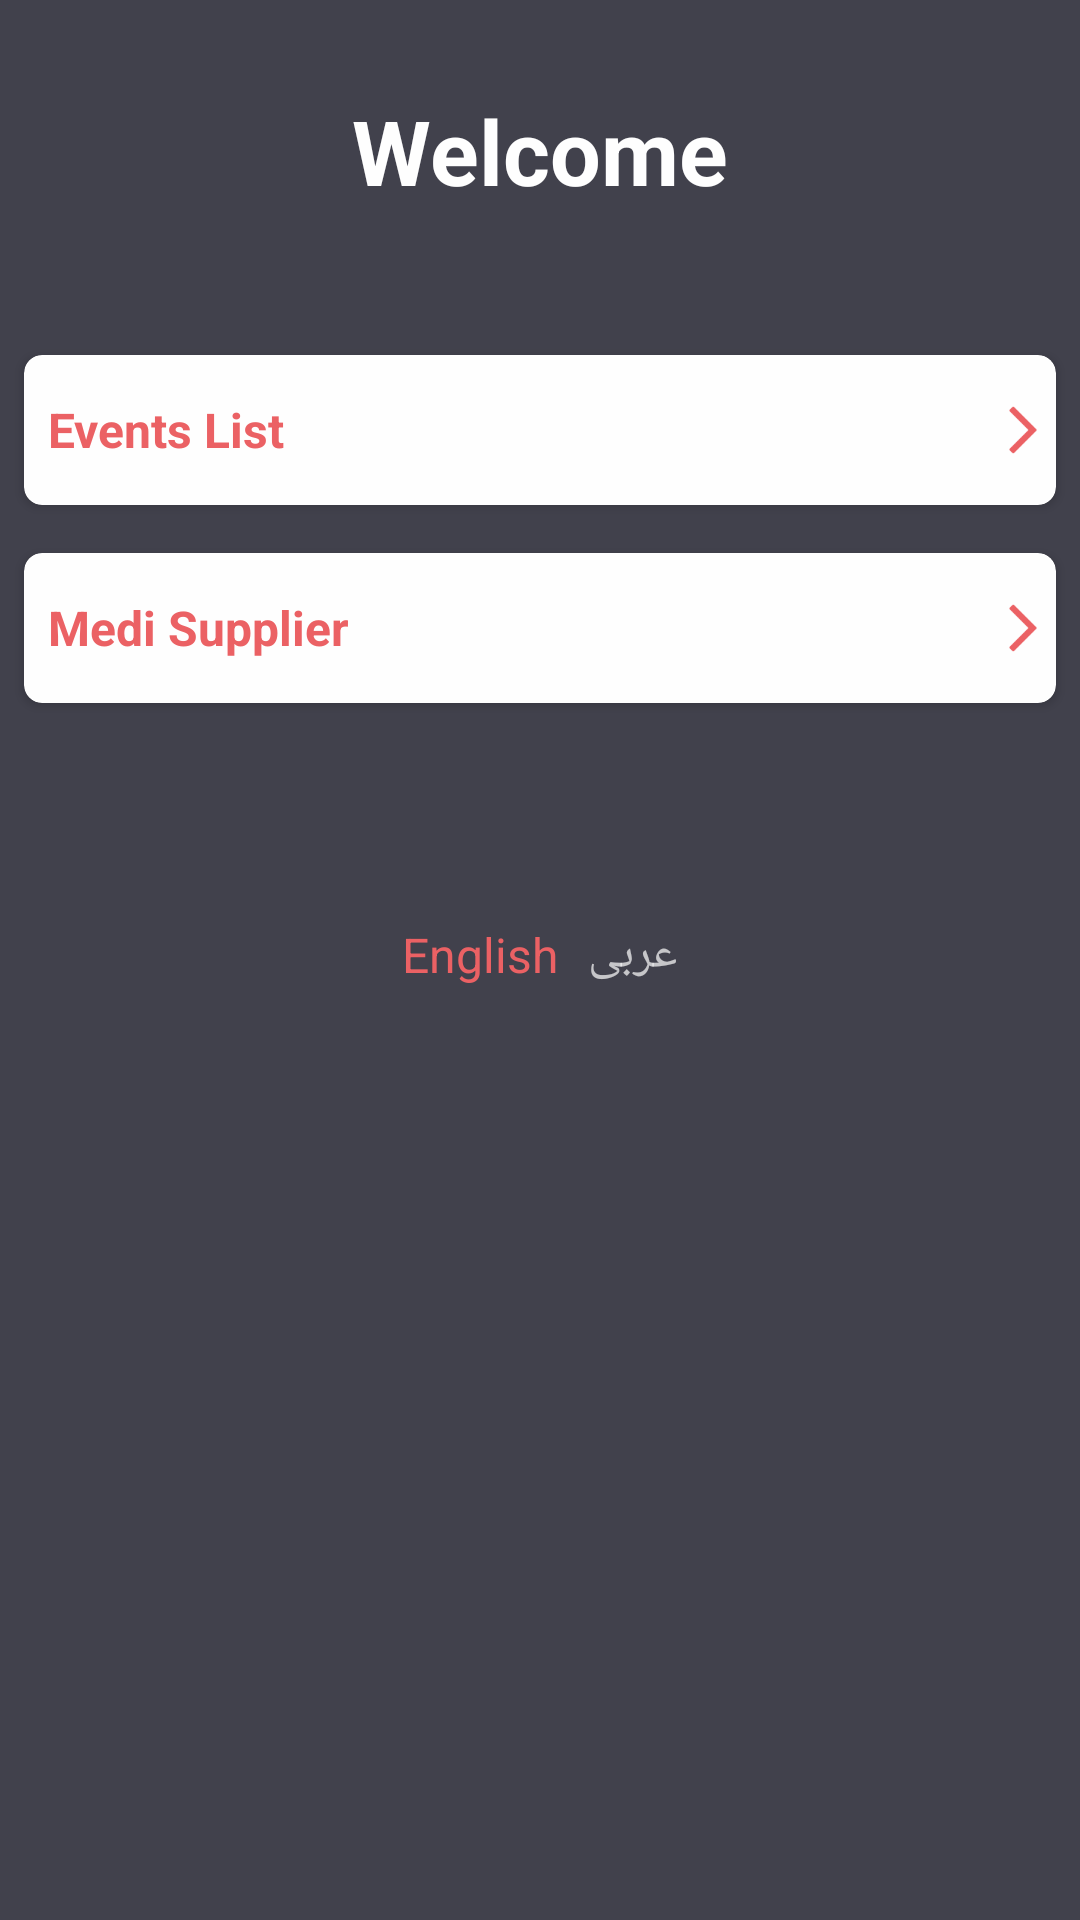

Where icons sit on this 1080px×1920px app screen, as rect(x1, y1, x2, y2):
arrow right: rect(1009, 406, 1037, 454), rect(1009, 604, 1037, 652)
